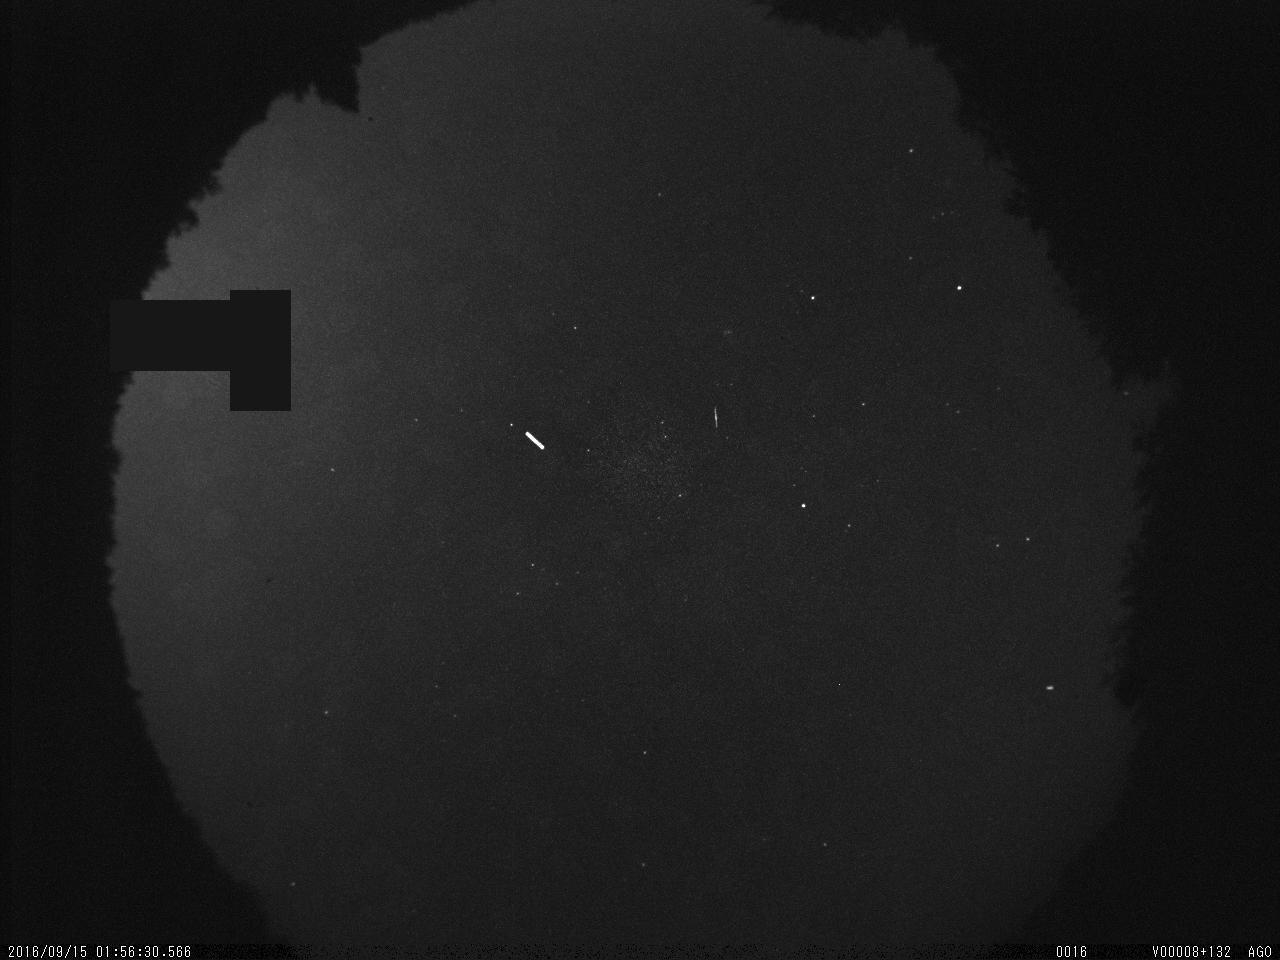meteor: (706, 401, 726, 438)
satelite: (522, 422, 550, 463)
